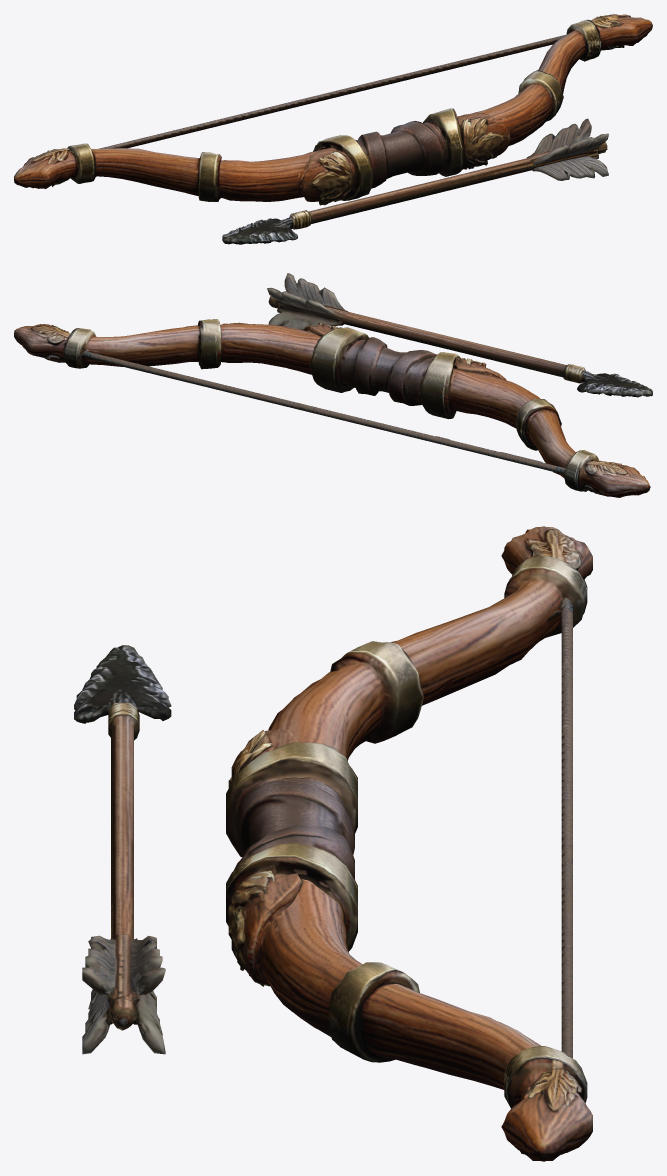
Rendered from bow_source.glb.
3 views of the same model, one above another, from view 1: azimuth 30°, elevation 25°; view 2: azimuth 150°, elevation 25°; view 3: azimuth 270°, elevation 25° (orthographic). The views are drawn at different scales.
Parts seen in each view (by area): view 1: tripo_node_5b657757-ef2f-4920-baac-d1351ec4e8a6; view 2: tripo_node_5b657757-ef2f-4920-baac-d1351ec4e8a6; view 3: tripo_node_5b657757-ef2f-4920-baac-d1351ec4e8a6.
Part boxes in pixels (x1,y1,x2,y2): tripo_node_5b657757-ef2f-4920-baac-d1351ec4e8a6: [14, 14, 652, 244]; tripo_node_5b657757-ef2f-4920-baac-d1351ec4e8a6: [14, 273, 652, 497]; tripo_node_5b657757-ef2f-4920-baac-d1351ec4e8a6: [74, 526, 592, 1161].
Size of the model in its own units: 0.9825 by 0.0865 by 0.348.
Materials: 1 (1 with a texture image).
